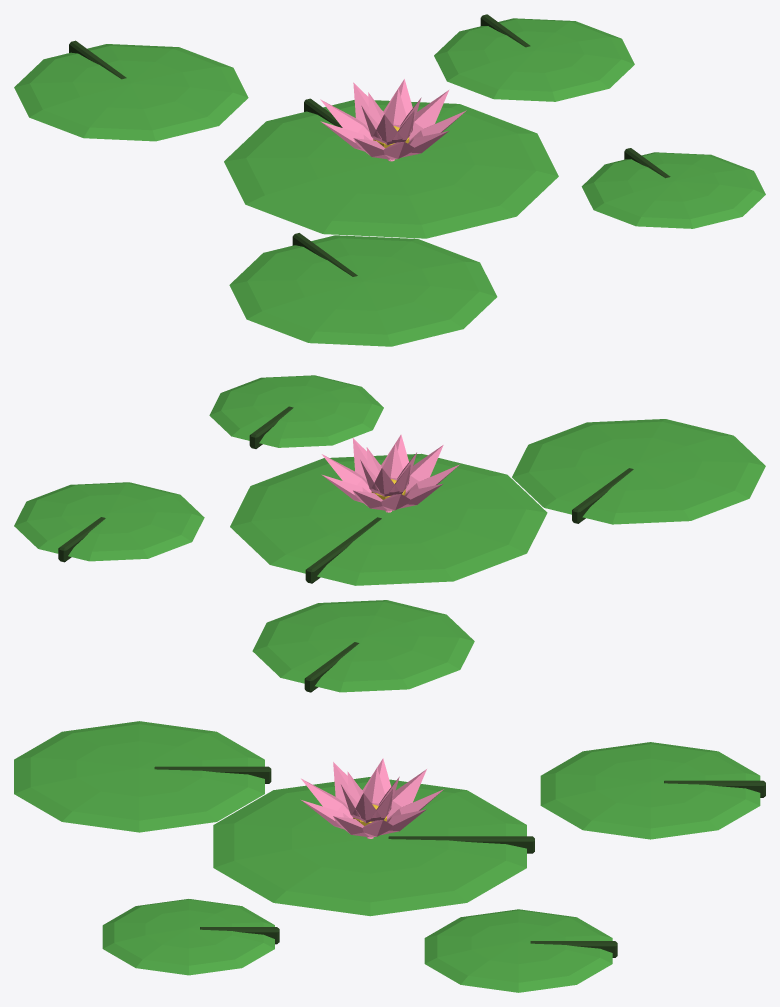
Rendered from LilyPads.glb.
3 renders of one model, top to bottom at view 1: azimuth 30°, elevation 25°; view 2: azimuth 150°, elevation 25°; view 3: azimuth 270°, elevation 25°, orthographic. The views are drawn at different scales.
Visible parts, largest first — view 1: LilyPads; view 2: LilyPads; view 3: LilyPads.
Boxes of the visible parts, <box> form: LilyPads: <box>14,14,765,346</box>; LilyPads: <box>14,375,765,692</box>; LilyPads: <box>14,721,765,992</box>.
Size of the model in its own units: 3.9 by 0.5057 by 4.56.
1 material, 1 textured.
